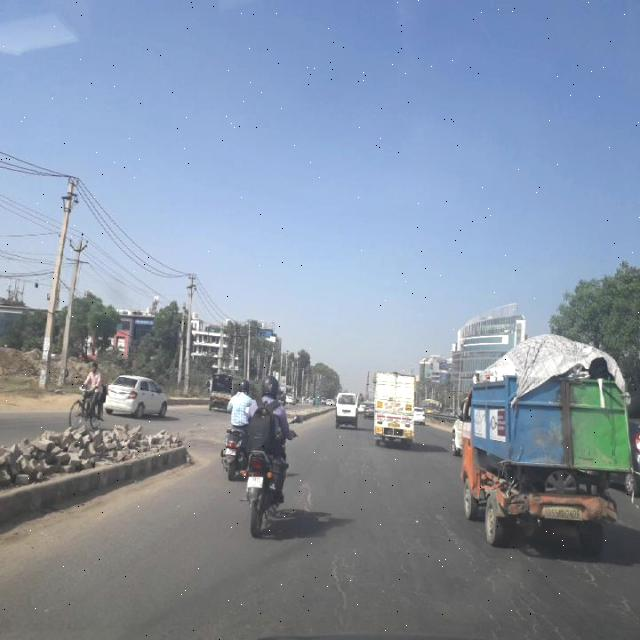D00: (324, 501, 362, 632)
D20: (444, 543, 632, 634)
